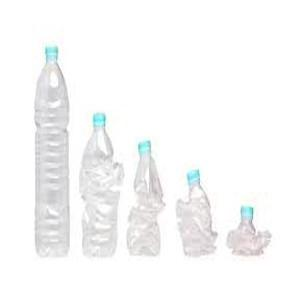Plastic: (33, 41, 73, 259), (79, 108, 125, 263), (125, 139, 168, 260), (174, 165, 218, 258), (222, 205, 275, 259)
